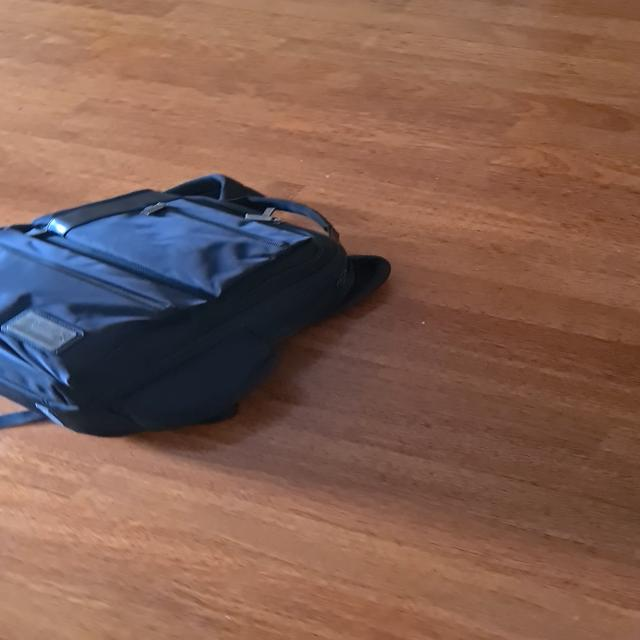backpack: (0, 170, 412, 449)
